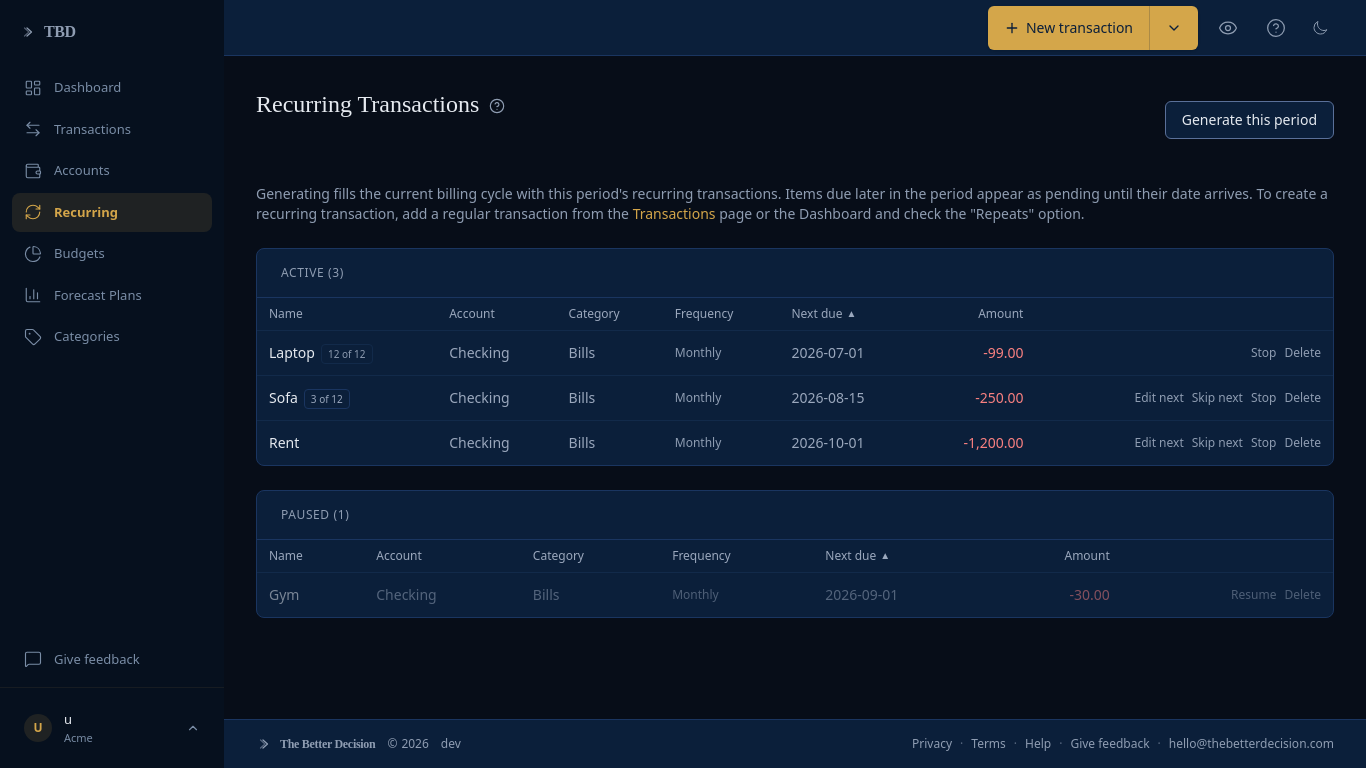
recurring page: skip next (TBD-272) › F2: instalment copy says it still counts as 1 of the N payments
This screenshot has width=1366, height=768.
Click the button with aria-label "Skip next: Sofa": [1217, 398] box x1=1192 y1=390 x2=1243 y2=406
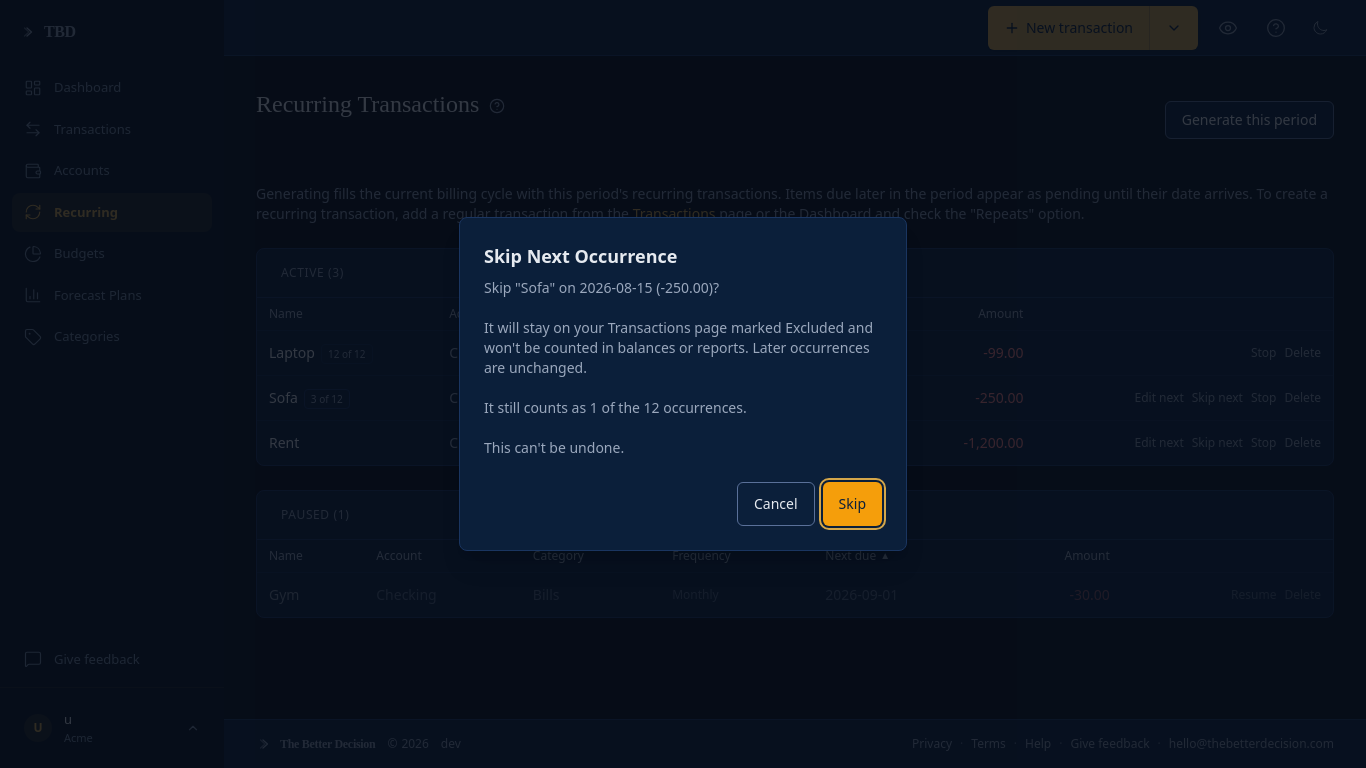
Expected: the dialog shows "It still counts as 1 of the 12 occurrences.", x1=484 y1=278 x2=873 y2=457
